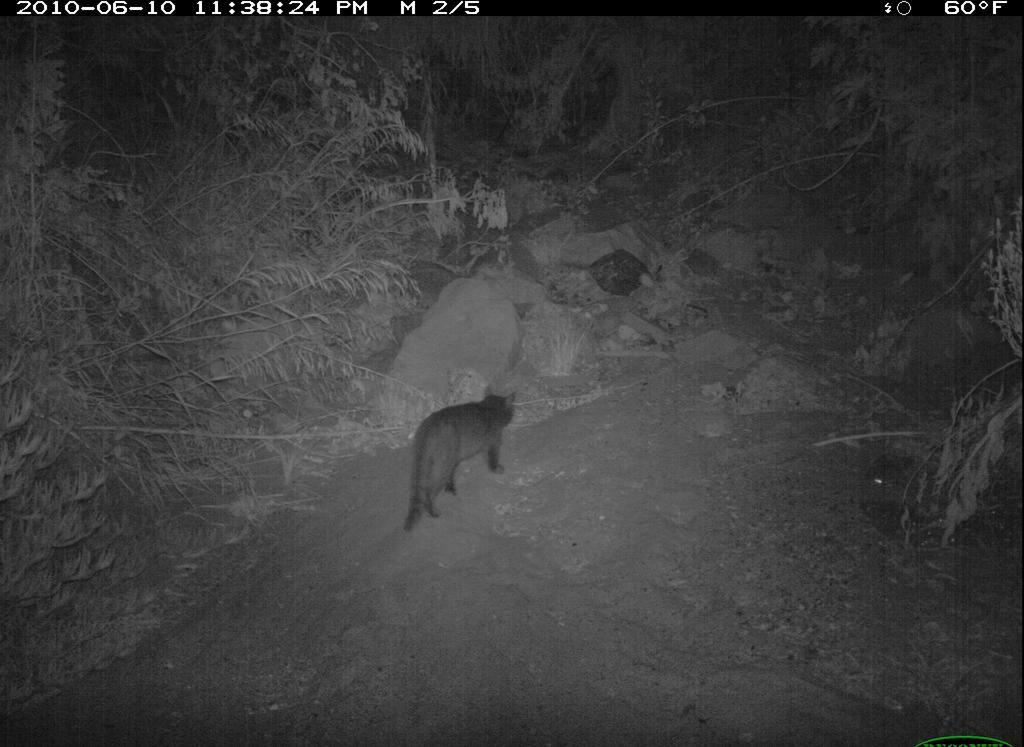cat: (385, 369, 528, 537)
